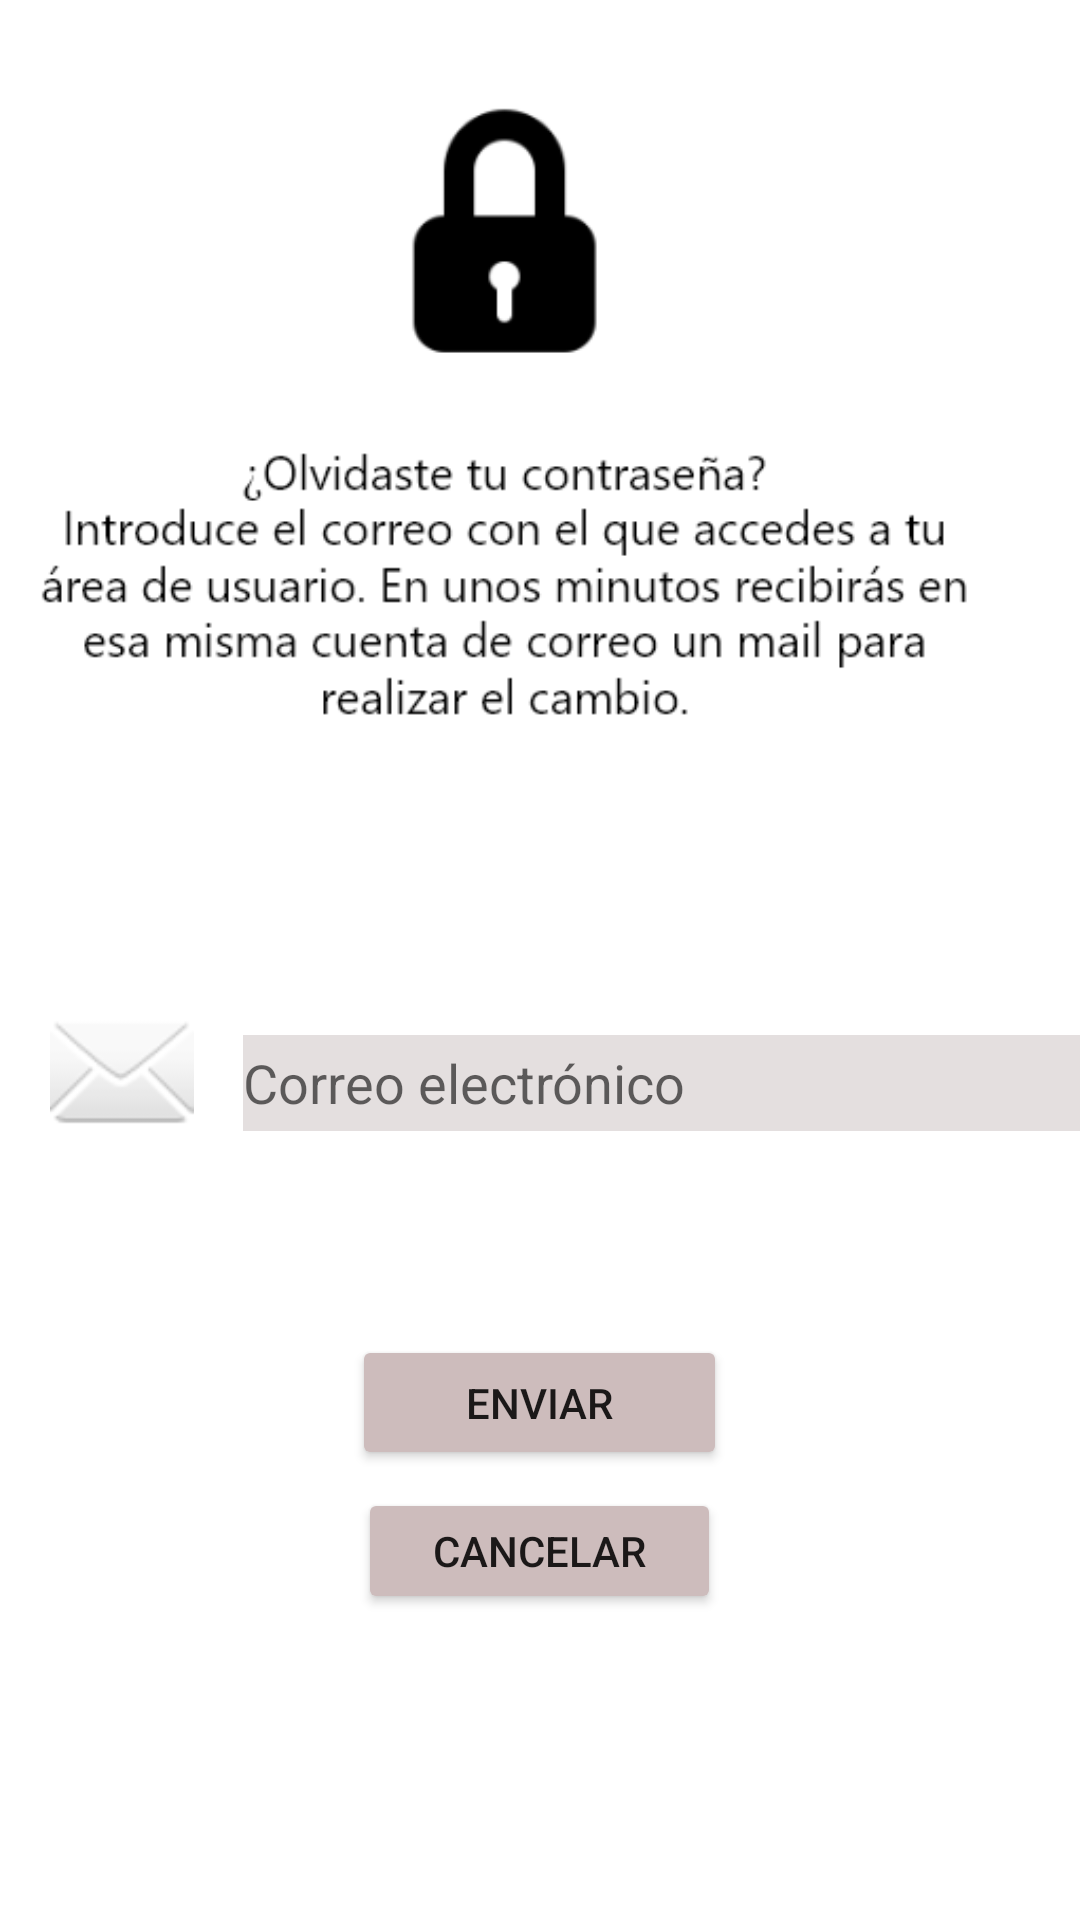

Icon bounding boxes for this 1080x1920 phone screenshot, format box(x1, y1, x2, y2):
email: box(50, 1024, 194, 1123)
